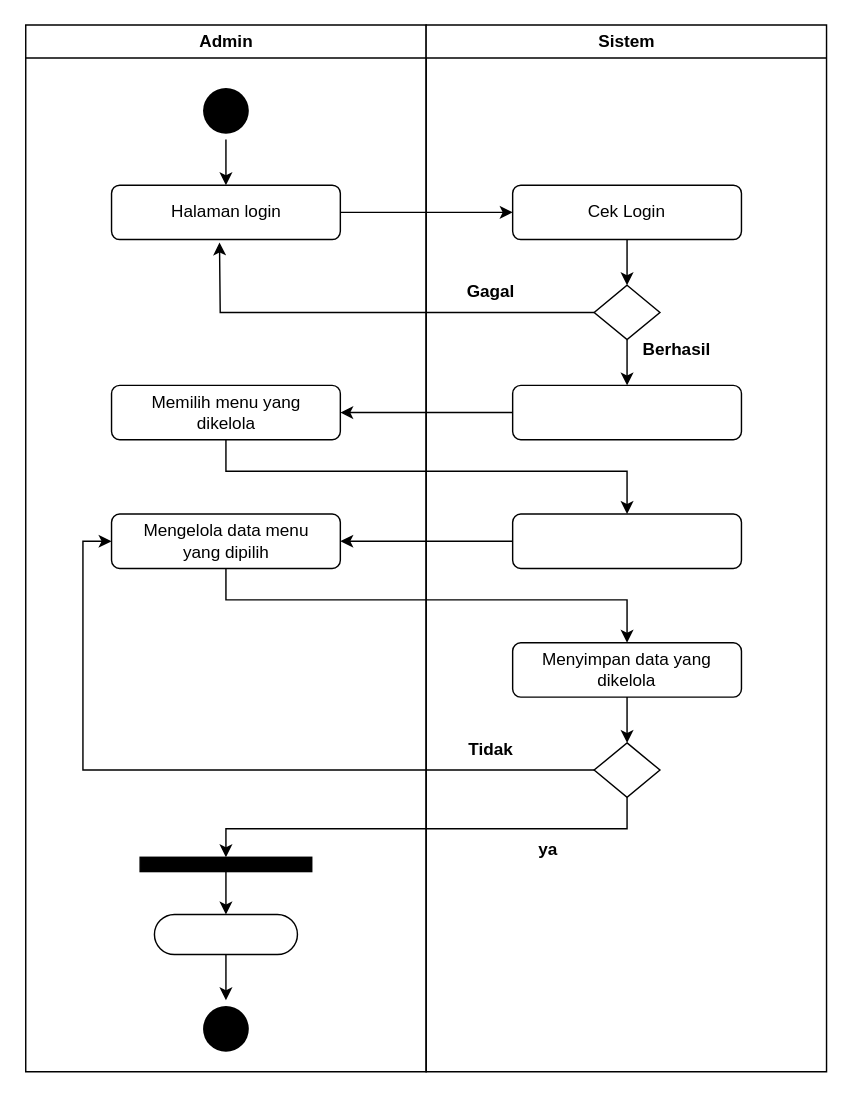
Image size: 851x1097. Some labels were removed from this diagram. Each missing label, with the centre of its shape:
"Logout" goes at (225,934).
"Menampilkan halaman dashboard" goes at (626,412).
"Menampilkan menu yang dikelola" goes at (626,540).
